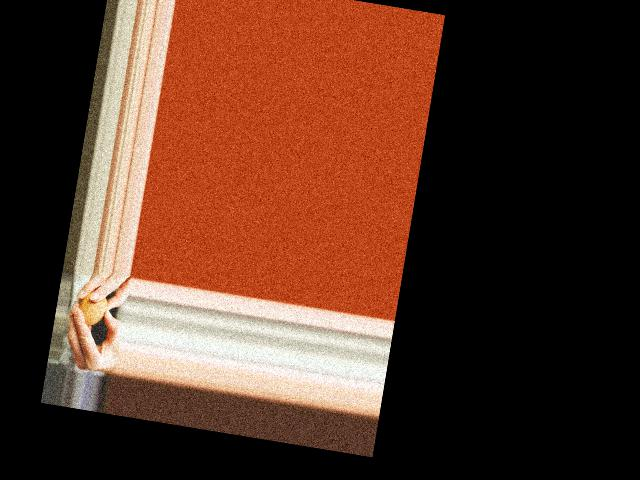egg: (75, 289, 109, 327)
